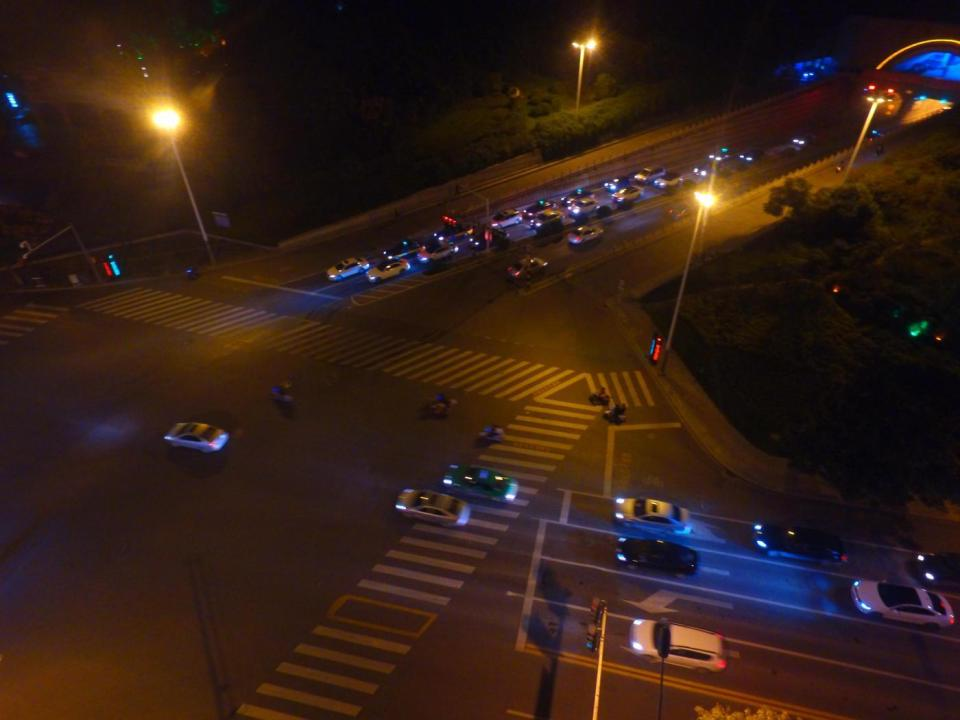car: (627, 614, 730, 674), (850, 579, 953, 631), (753, 524, 847, 568), (614, 537, 700, 579), (612, 494, 691, 537), (394, 489, 470, 528), (444, 465, 518, 505), (164, 421, 230, 454), (910, 551, 960, 590), (366, 259, 410, 285), (326, 258, 370, 282), (505, 258, 546, 283), (434, 220, 474, 244), (469, 225, 506, 249), (416, 242, 456, 264), (382, 238, 420, 261), (566, 224, 601, 247), (693, 160, 730, 180), (610, 184, 645, 205), (529, 211, 565, 231), (525, 200, 556, 222), (560, 188, 594, 208), (488, 210, 522, 230), (636, 163, 666, 185), (708, 143, 738, 164), (569, 198, 601, 216), (654, 172, 684, 190), (605, 176, 632, 194), (666, 206, 692, 222), (738, 148, 762, 165), (792, 131, 815, 147)
